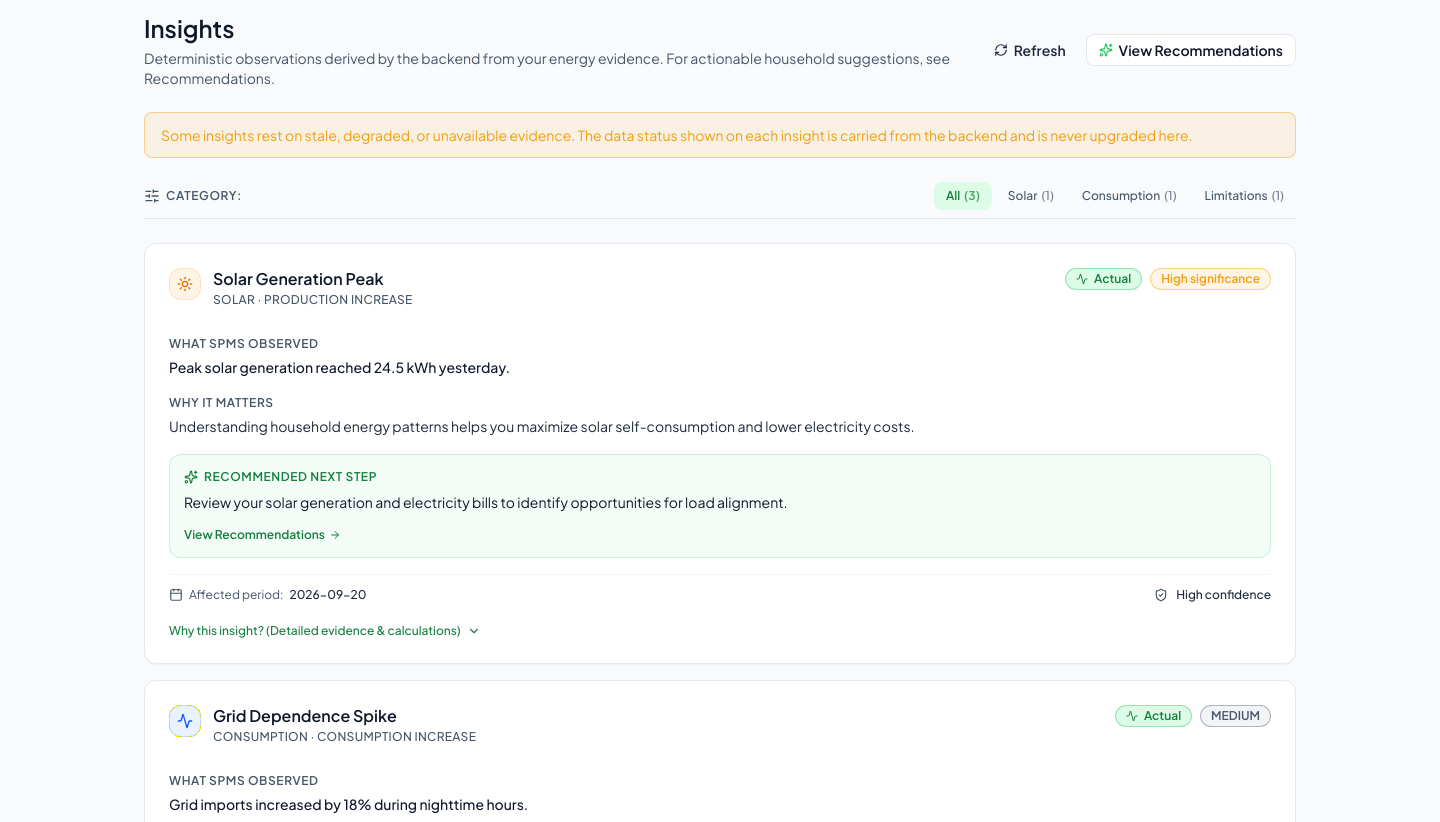
it: InsightsPage › renders insight cards and allows category filtering
Check: the heading "Solar Generation Peak" is shown, box top-left (213, 268), bottom-right (413, 290)
Check: the heading "Grid Dependence Spike" is shown, box top-left (213, 705), bottom-right (397, 726)
Filter to Solar
Click the button "Solar(1)". click: [1031, 196]
box: top-left (996, 182), bottom-right (1066, 210)
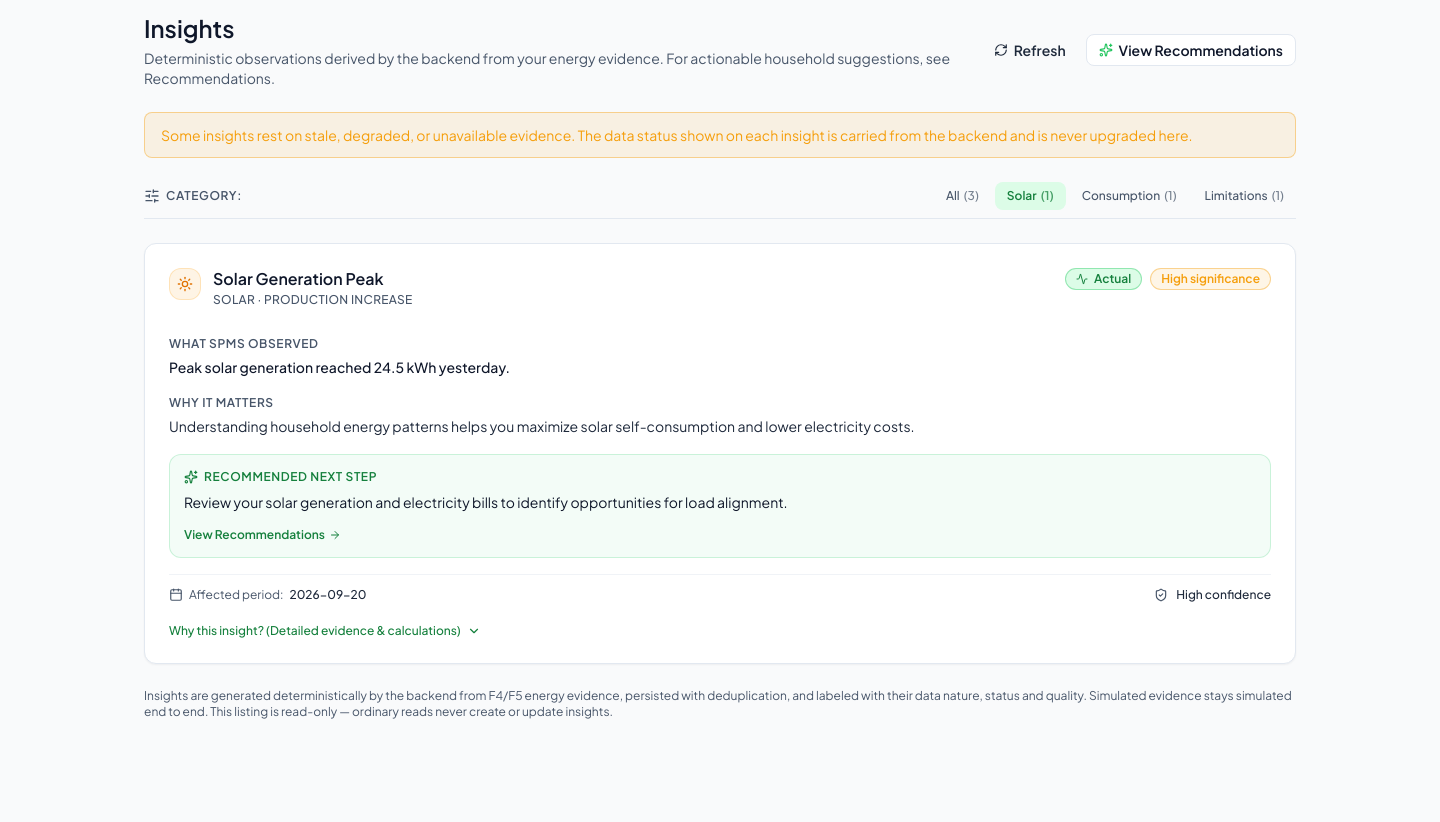
Check: the heading "Solar Generation Peak" is shown, box top-left (213, 268), bottom-right (413, 290)
Check: the heading "Grid Dependence Spike" is gone
Filter back to All
Click the button "All(3)". click: [962, 196]
box: top-left (934, 182), bottom-right (991, 210)
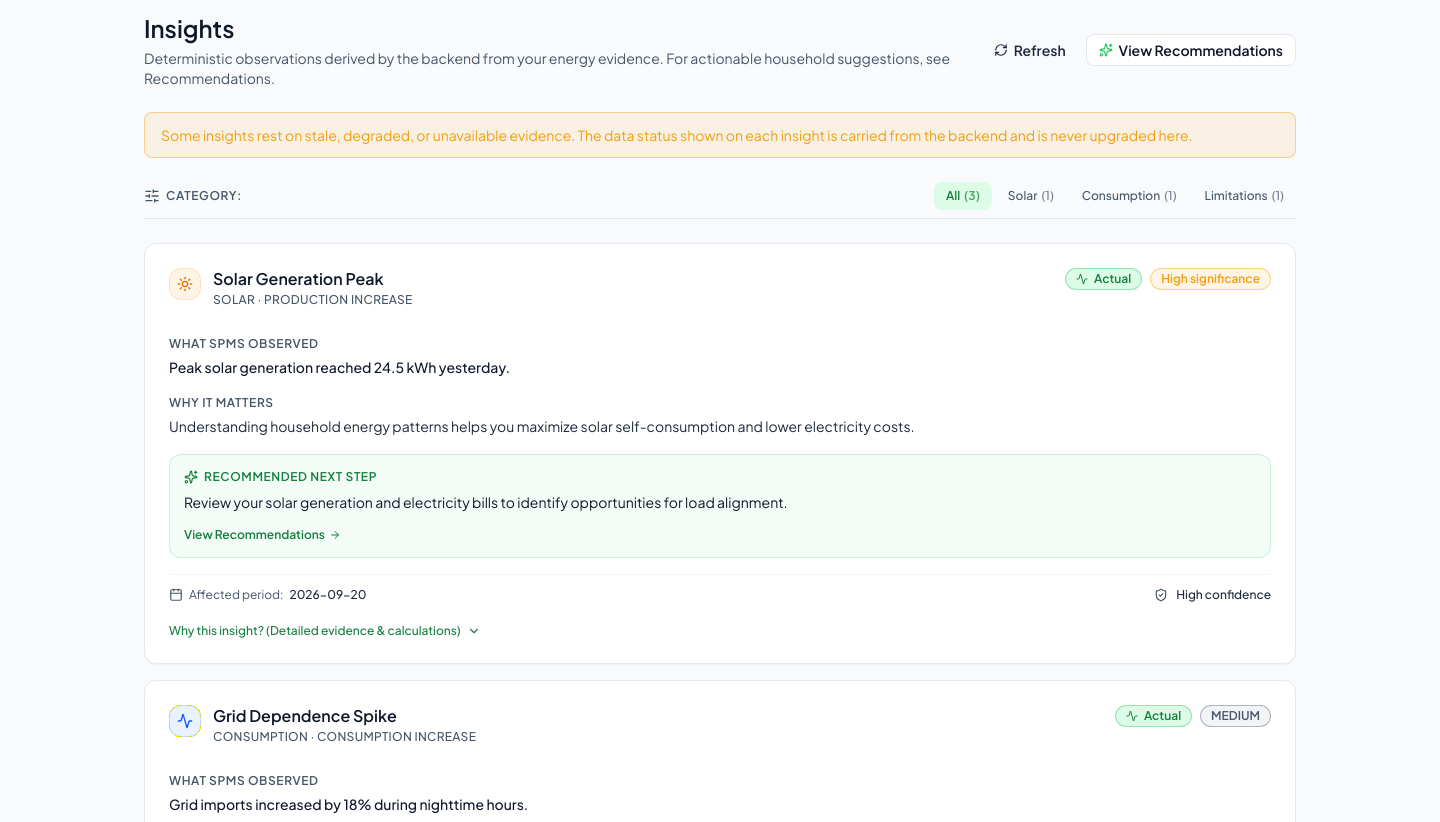
Check: the heading "Solar Generation Peak" is shown, box top-left (213, 268), bottom-right (413, 290)
Check: the heading "Grid Dependence Spike" is shown, box top-left (213, 705), bottom-right (397, 726)
